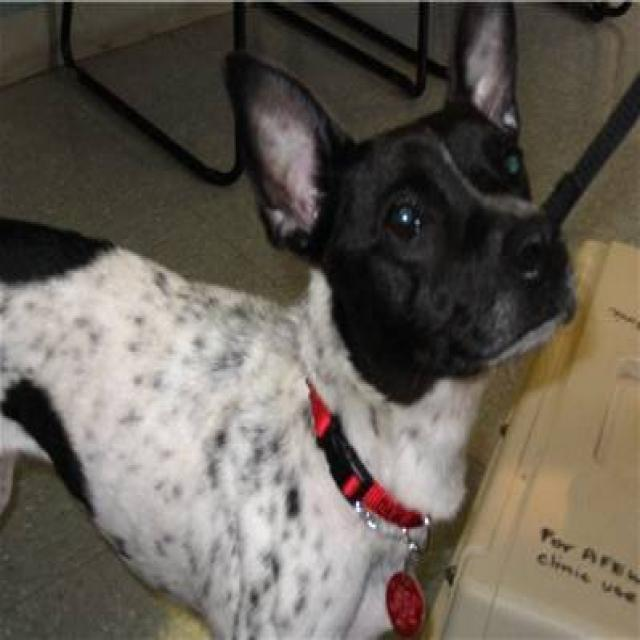dog: (0, 0, 577, 638)
